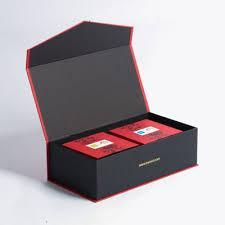box: (25, 22, 199, 204)
